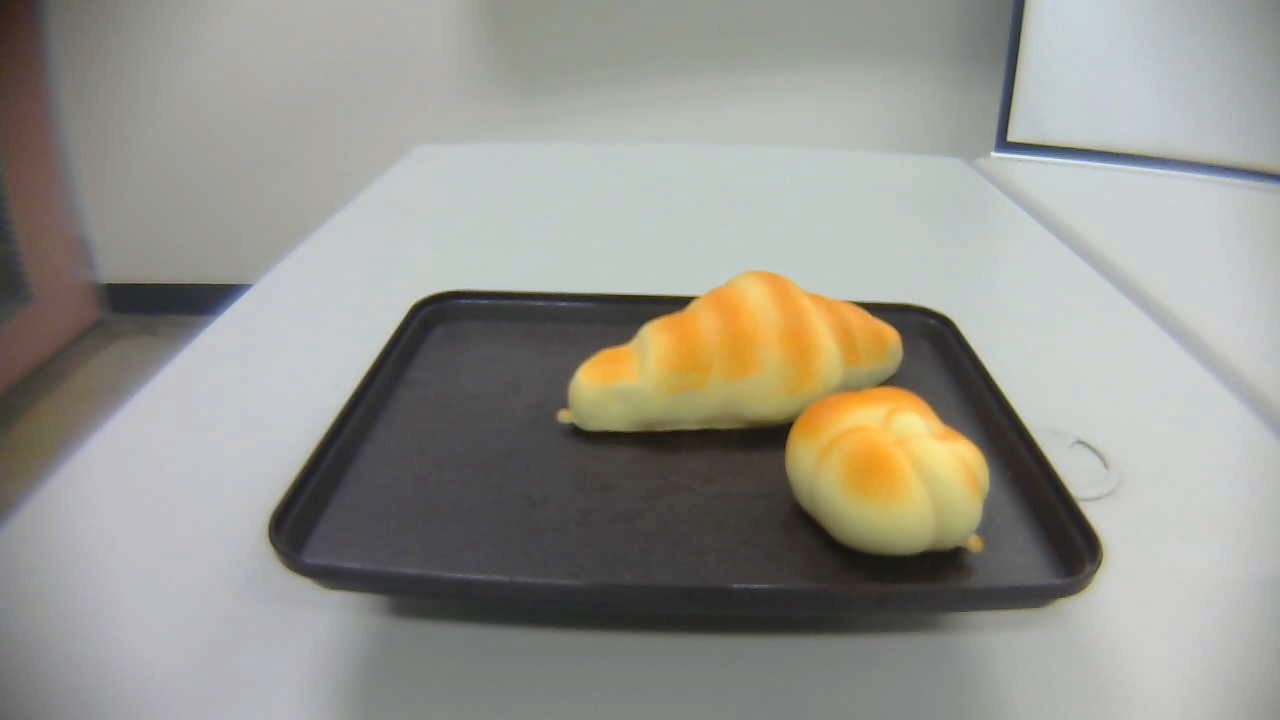croissant: (555, 270, 905, 435)
twist bread: (783, 382, 990, 557)
